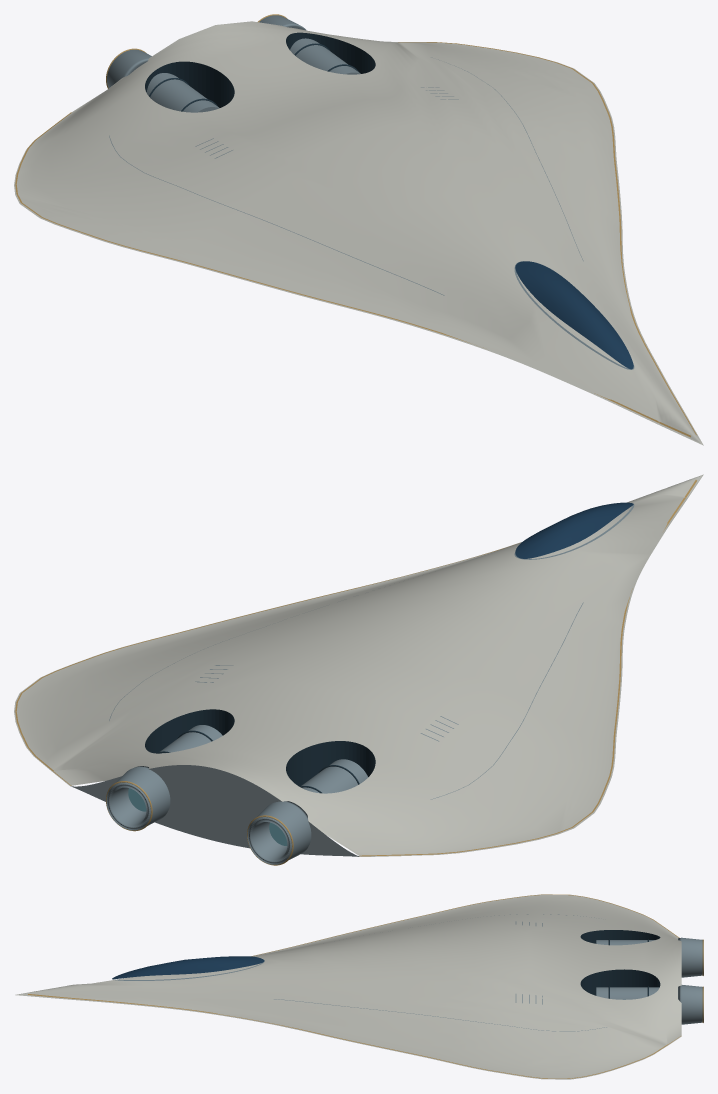
Rendered from shuttle_01_d0_lod0.glb.
3 views of the same model, one above another, from view 1: azimuth 30°, elevation 25°; view 2: azimuth 150°, elevation 25°; view 3: azimuth 270°, elevation 25° (orthographic). The views are drawn at different scales.
Visible parts, largest first — view 1: HULL, CANOPY, ENGINE_L_SURFACE; view 2: HULL, ENGINE_L_SURFACE, ENGINE_R_SURFACE, CANOPY; view 3: HULL, CANOPY, ENGINE_R_SURFACE, ENGINE_L_SURFACE.
Part boxes in pixels (bbox=[...]): HULL: bbox=[14, 21, 703, 445]; CANOPY: bbox=[515, 261, 633, 369]; ENGINE_L_SURFACE: bbox=[106, 48, 151, 88]; HULL: bbox=[14, 474, 703, 856]; ENGINE_L_SURFACE: bbox=[247, 801, 311, 865]; ENGINE_R_SURFACE: bbox=[106, 766, 170, 831]; CANOPY: bbox=[515, 502, 633, 558]; HULL: bbox=[15, 894, 681, 1079]; CANOPY: bbox=[112, 956, 264, 978]; ENGINE_R_SURFACE: bbox=[678, 985, 703, 1024]; ENGINE_L_SURFACE: bbox=[678, 937, 703, 977].
Size of the model in its own units: 23.6 by 3.87 by 37.2.
